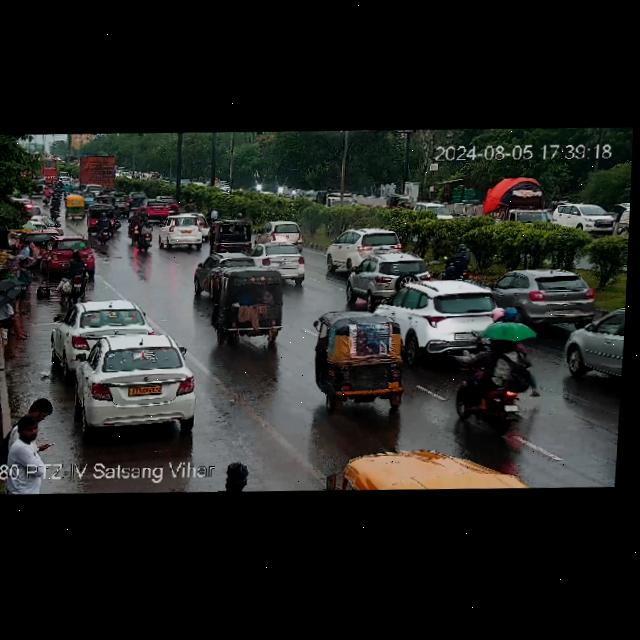car: (53, 332, 201, 434), (327, 440, 540, 494), (315, 310, 410, 412), (372, 278, 509, 332), (490, 266, 606, 327), (54, 297, 152, 359), (211, 270, 287, 344), (563, 306, 623, 398), (328, 249, 412, 304), (324, 228, 403, 270), (193, 252, 261, 296), (247, 241, 311, 278), (44, 235, 97, 270), (554, 201, 604, 237), (158, 216, 210, 250), (212, 220, 256, 250), (261, 220, 304, 244), (315, 190, 359, 209), (62, 194, 88, 219), (139, 203, 170, 219), (131, 190, 149, 207), (117, 194, 130, 215), (93, 193, 115, 205), (167, 192, 179, 212)
motorcycle: (453, 341, 523, 423), (435, 237, 475, 282), (60, 250, 95, 296), (87, 209, 116, 244), (125, 211, 151, 244), (130, 223, 154, 252), (47, 194, 60, 221), (51, 177, 69, 194), (112, 203, 122, 229), (209, 204, 219, 220), (183, 198, 196, 210), (41, 187, 49, 205), (233, 212, 246, 221)
person: (3, 421, 53, 469), (0, 296, 32, 339), (219, 461, 254, 492), (24, 397, 57, 425), (15, 238, 42, 269), (13, 258, 29, 308)
truck: (475, 177, 557, 229), (72, 153, 122, 189)
